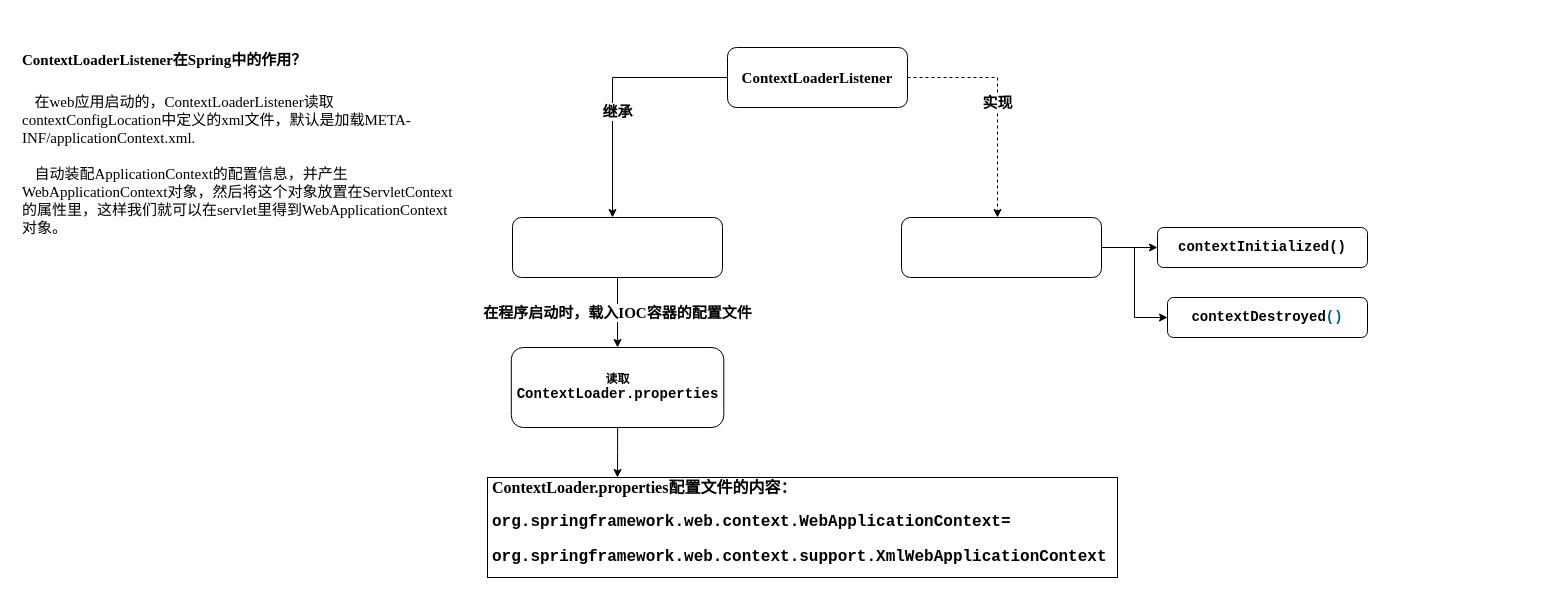
Image size: 1544x595. Some labels were removed from this diagram. The shapes that lost their labels are listed below. From the top down, each one's centre as x and y in pixels, then its label:
At [617,247]: "ContextLoader".
At [1001,247]: "ServletContextListener".
